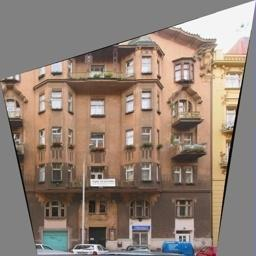building: (0, 10, 215, 256)
